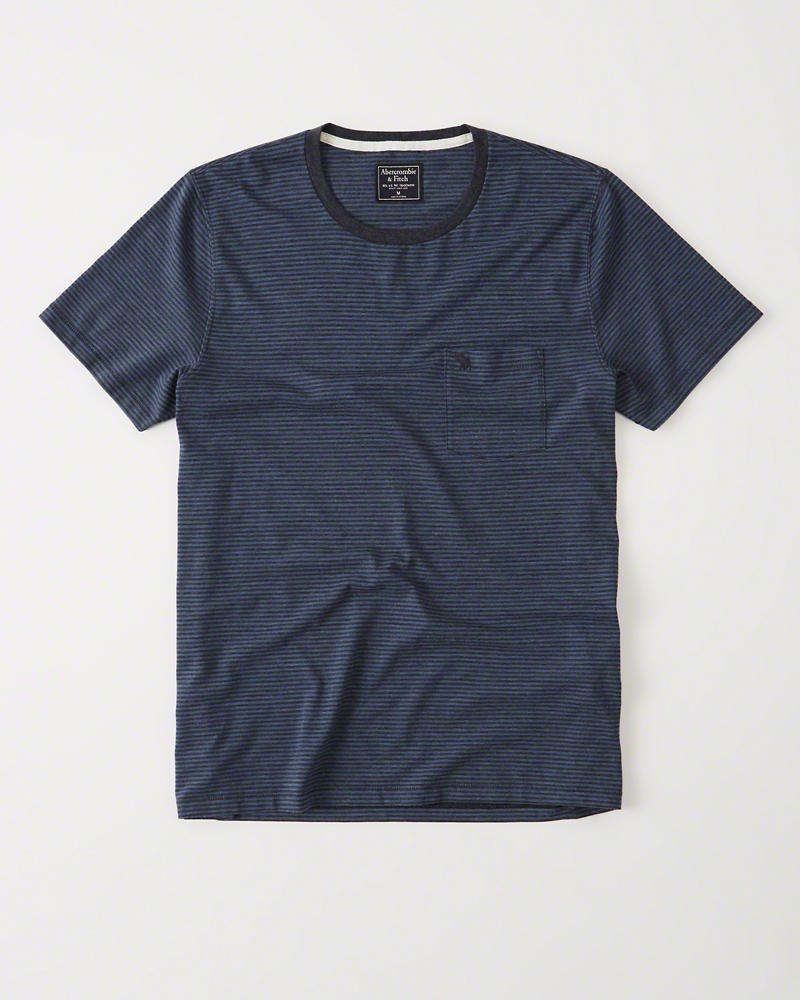teeshirt: (30, 122, 792, 833)
